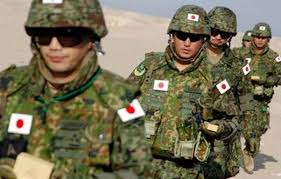Japanese Flag: (113, 97, 145, 123), (6, 114, 36, 136), (215, 78, 232, 96), (152, 78, 169, 92), (239, 61, 253, 78), (187, 12, 200, 22)
